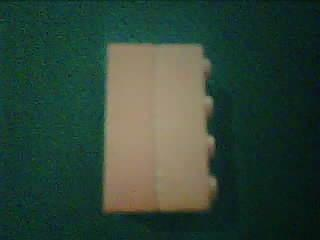lego: (102, 42, 219, 213)
